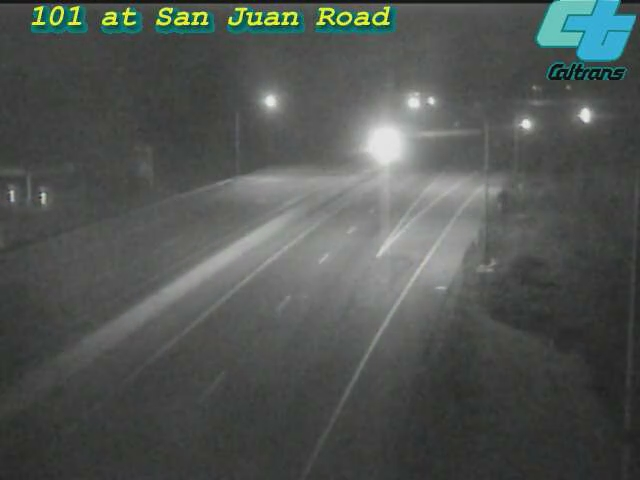vehicle: (354, 119, 404, 169), (503, 99, 553, 149), (558, 90, 608, 140)
